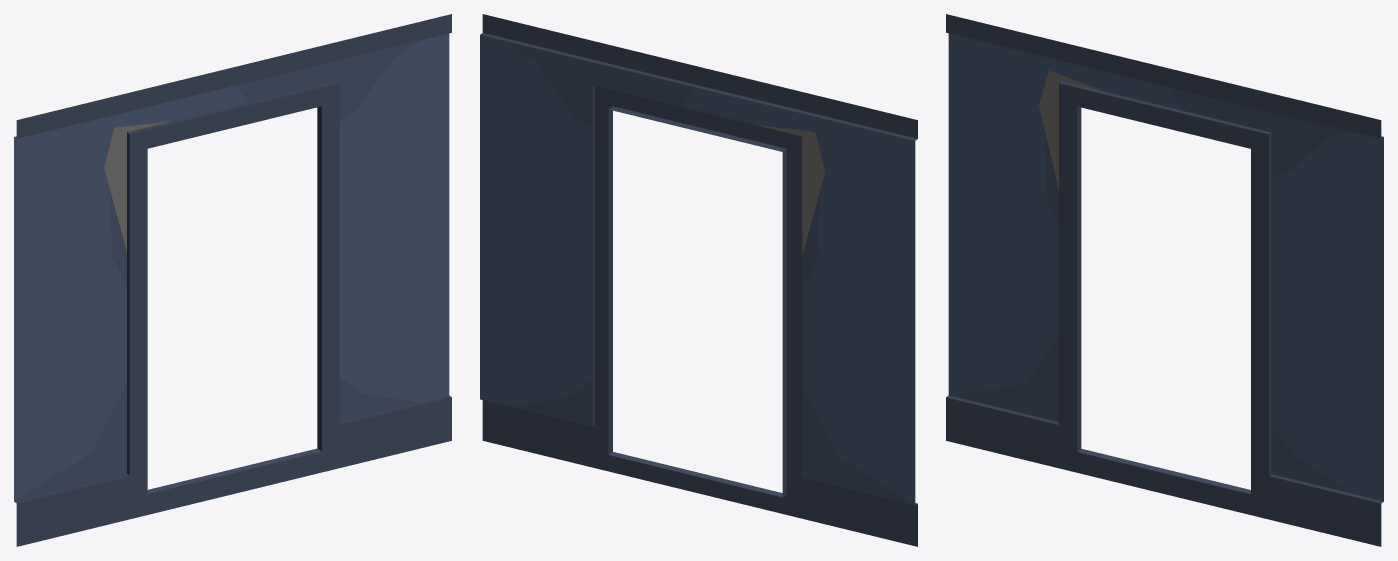
File: AI_Env_Wall_Blue_Doorway.fbx
The picture shows the model from 3 angles, left to right: view 1: azimuth 30°, elevation 25°; view 2: azimuth 150°, elevation 25°; view 3: azimuth 330°, elevation 25°; orthographic projection.
Visible parts, largest first — view 1: AI_Env_Wall_Blue_Doorway; view 2: AI_Env_Wall_Blue_Doorway; view 3: AI_Env_Wall_Blue_Doorway.
Part boxes in pixels (bbox=[...]): AI_Env_Wall_Blue_Doorway: bbox=[14, 14, 451, 546]; AI_Env_Wall_Blue_Doorway: bbox=[480, 14, 917, 546]; AI_Env_Wall_Blue_Doorway: bbox=[946, 14, 1383, 546].
Bounding box in the file's own units: 5 × 4.69 × 0.0885.
